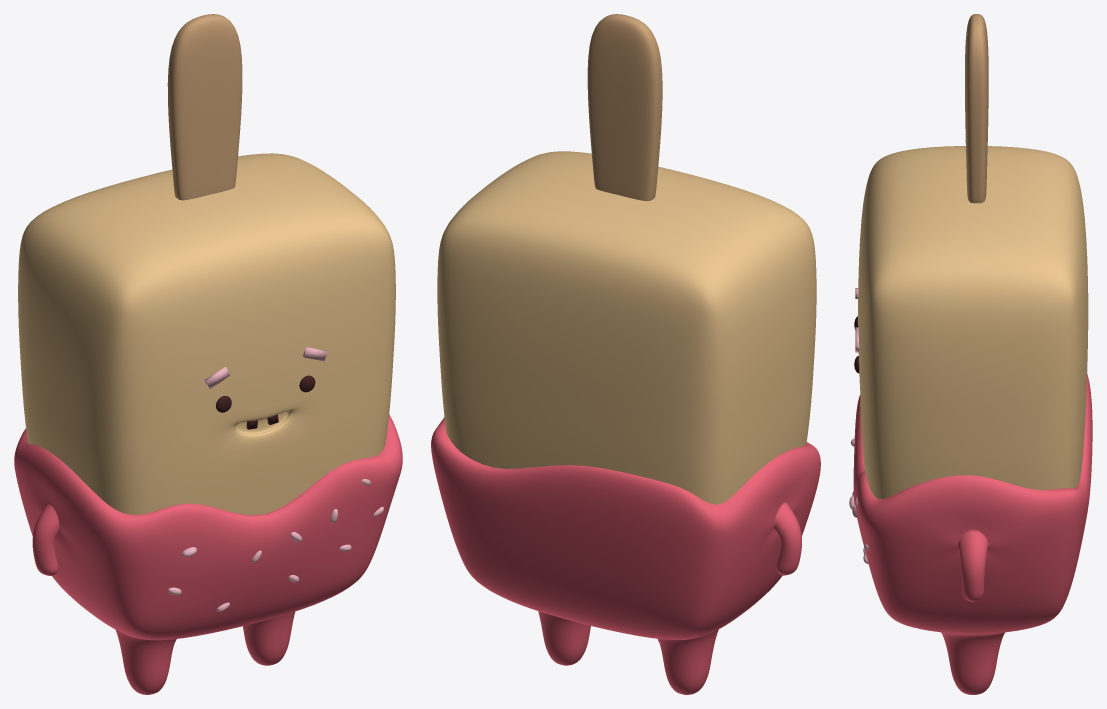
The model's file is ice_cream.fbx.
The picture shows the model from 3 angles, left to right: view 1: azimuth 30°, elevation 25°; view 2: azimuth 150°, elevation 25°; view 3: azimuth 270°, elevation 25°; orthographic projection. The views are drawn at different scales.
Visible parts, largest first — view 1: Body, Pants, wood, Face; view 2: Body, Pants, wood; view 3: Body, Pants, wood.
Boxes of the visible parts, bbox=[...] form: Body: bbox=[18, 153, 395, 515]; Pants: bbox=[14, 414, 402, 694]; wood: bbox=[167, 14, 242, 200]; Face: bbox=[204, 347, 327, 429]; Body: bbox=[437, 151, 816, 504]; Pants: bbox=[431, 417, 820, 694]; wood: bbox=[587, 14, 662, 200]; Body: bbox=[858, 146, 1088, 498]; Pants: bbox=[849, 374, 1092, 694]; wood: bbox=[965, 14, 988, 203].
Bounding box in the file's own units: 250 × 455 × 156.
